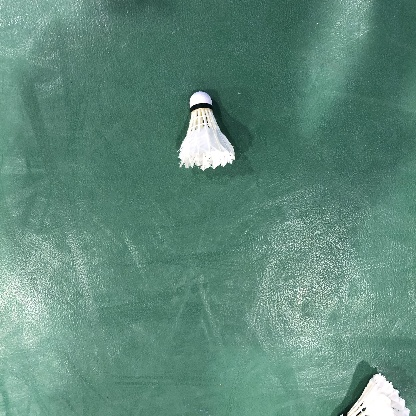ball_single: (179, 92, 236, 171), (339, 373, 410, 416)
